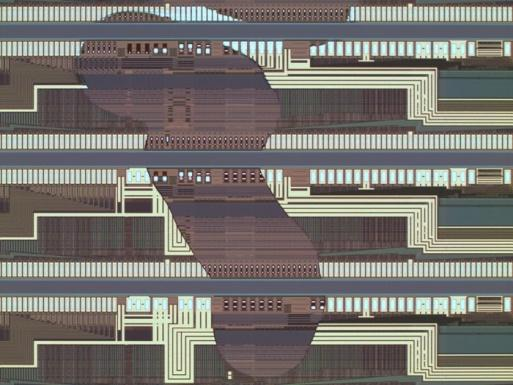COATING BAD: (76, 1, 355, 381)
